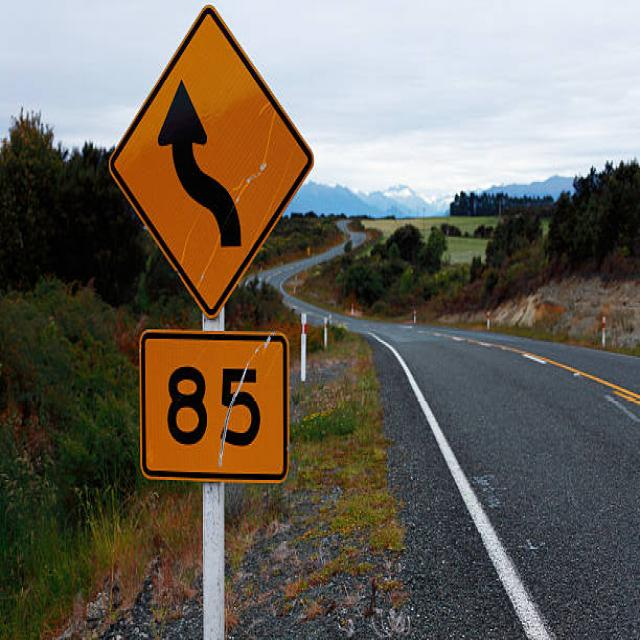left_sharp_curve: (103, 0, 318, 326)
